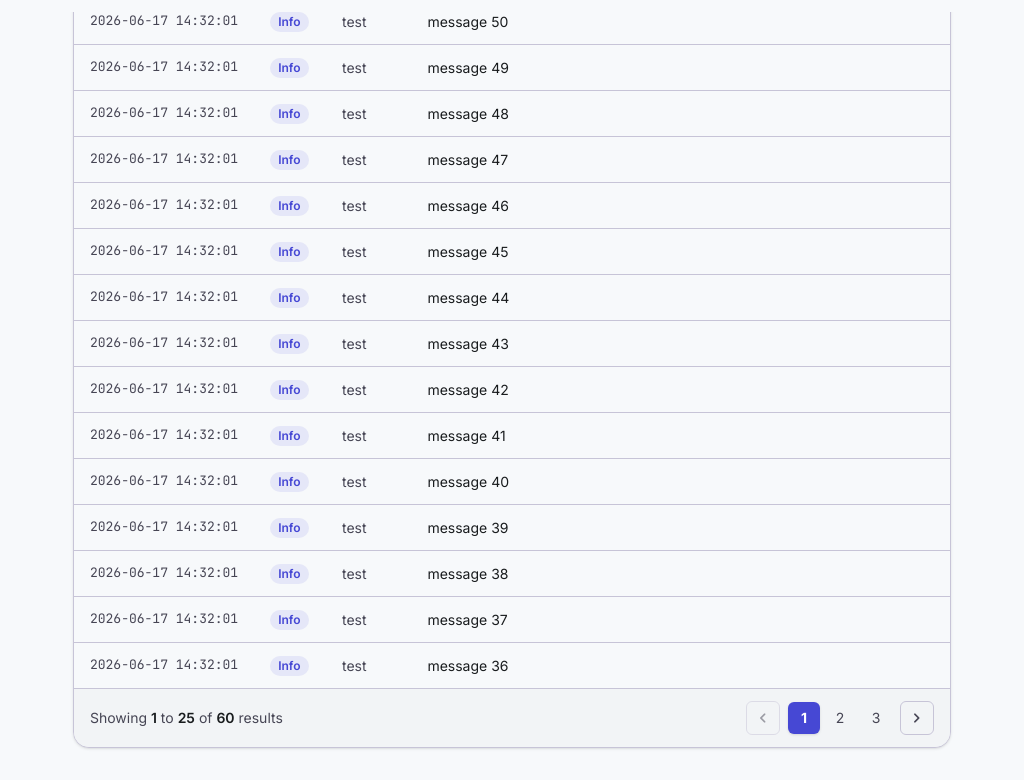
Test case: LogsRoute › jumps to the last page via a numbered button and disables Next there
This screenshot has width=1024, height=780.
(page scrolled)
What coordinates should you click on to do the following:
click the button "3"
I would click on:
 (876, 718)
Its box is [860,702,892,734].
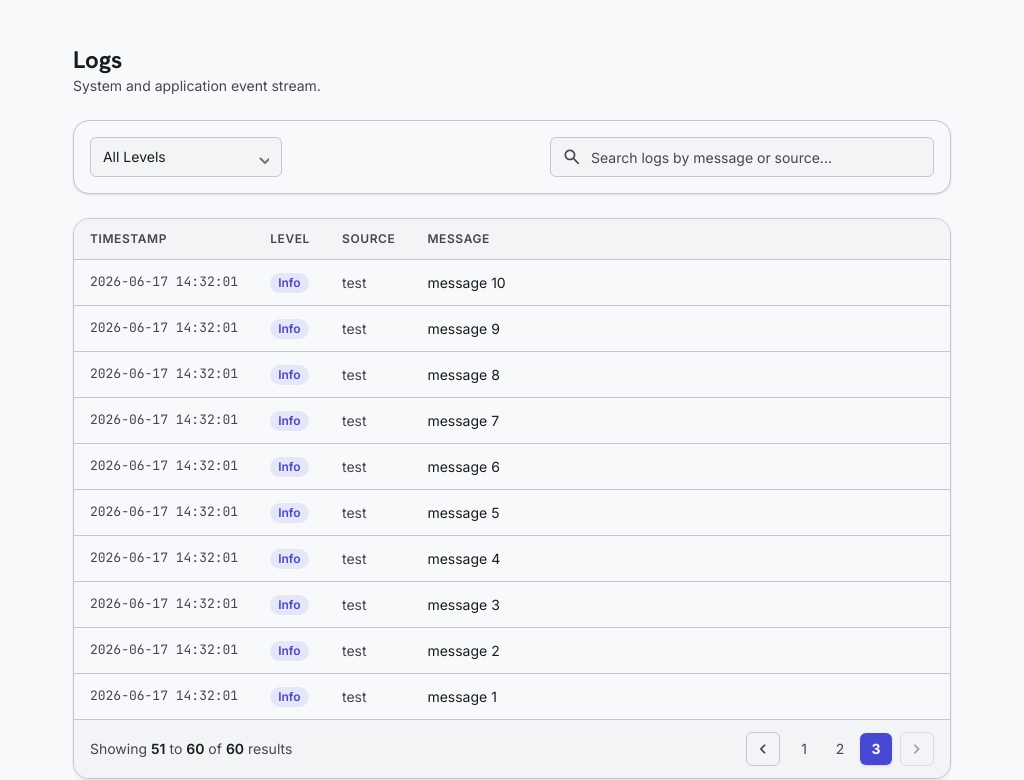
Expected: the text "message 10" is shown, [411,260,950,306]
Expected: the text "Showing 51 to 60 of 60 results" is shown, [90,739,292,759]
Expected: the button named "Next page" is disabled, [900,732,934,766]
